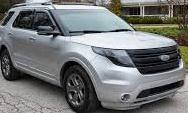Minivan: (1, 6, 186, 112)
SUV: (1, 6, 185, 113)
